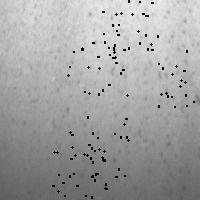pitted_surface: (111, 1, 195, 189), (17, 3, 95, 140), (69, 116, 127, 176), (67, 42, 126, 94), (48, 150, 105, 200), (99, 0, 157, 49), (158, 50, 200, 106)
